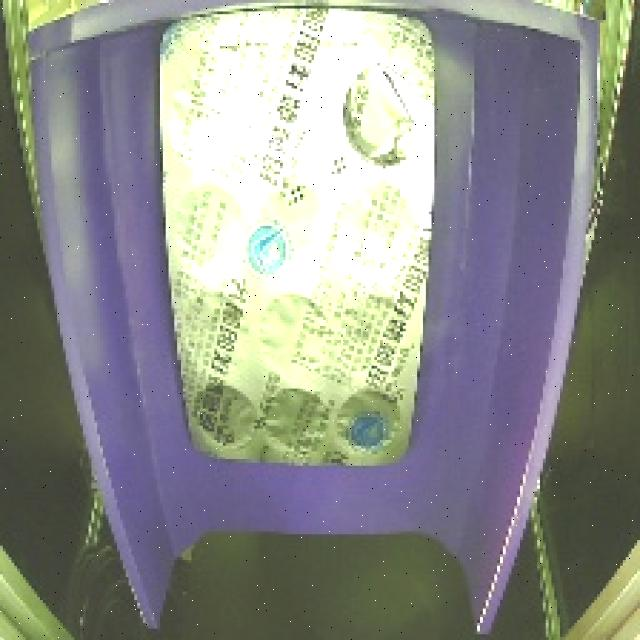med_plate: (143, 0, 446, 492)
